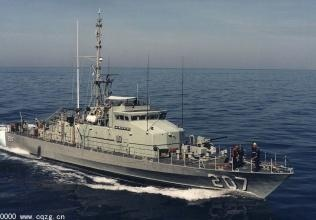warship: (1, 55, 297, 198)
